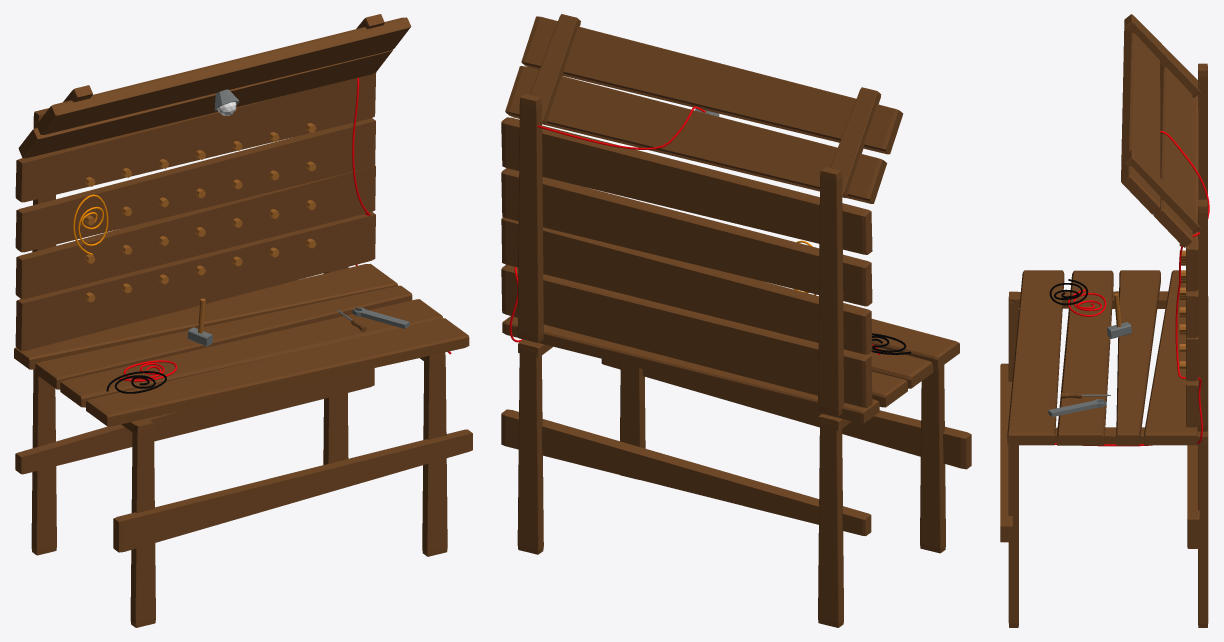
Rendered from Crafting.fbx.
3 views of the same model, side by side, from view 1: azimuth 30°, elevation 25°; view 2: azimuth 150°, elevation 25°; view 3: azimuth 270°, elevation 25° (orthographic). The views are drawn at different scales.
Parts seen in each view (by area): view 1: Cube.006, Cube.008, Cube.007, Cube.009, Cube.004, Cube.016, Cube.011, Cube.003, Cube.001, Cube.014, Cube.015, Cube.002 (+4 smaller); view 2: Cube.011, Cube.006, Cube.010, Cube.009, Cube.008, Cube.007, Cube.012, Cube.015, Cube.013, Cube.014, Cube.001, Cube.016 (+5 smaller); view 3: Cube.004, Cube.003, Cube.002, Cube.011, Cube.001, Cube.010, Cube.012, Cube.017, Cube.014, Cube.013, Cube.016, Cube.009 (+11 smaller).
Boxes of the visible parts, x1=… form: Cube.006: x1=15, y1=212, x2=375, y2=351; Cube.008: x1=15, y1=118, x2=375, y2=252; Cube.007: x1=15, y1=165, x2=375, y2=299; Cube.009: x1=15, y1=72, x2=376, y2=202; Cube.004: x1=86, y1=318, x2=469, y2=426; Cube.016: x1=113, y1=429, x2=472, y2=552; Cube.011: x1=36, y1=17, x2=411, y2=134; Cube.003: x1=60, y1=299, x2=442, y2=407; Cube.001: x1=14, y1=263, x2=397, y2=369; Cube.014: x1=130, y1=352, x2=447, y2=627; Cube.015: x1=15, y1=368, x2=374, y2=474; Cube.002: x1=35, y1=285, x2=412, y2=389; Cube.011: x1=521, y1=16, x2=903, y2=154; Cube.006: x1=501, y1=264, x2=872, y2=408; Cube.010: x1=505, y1=66, x2=887, y2=203; Cube.009: x1=501, y1=117, x2=872, y2=254; Cube.008: x1=501, y1=168, x2=872, y2=306; Cube.007: x1=501, y1=217, x2=872, y2=354; Cube.012: x1=517, y1=94, x2=844, y2=416; Cube.015: x1=501, y1=409, x2=871, y2=536; Cube.013: x1=517, y1=340, x2=843, y2=627; Cube.014: x1=620, y1=363, x2=945, y2=553; Cube.001: x1=502, y1=316, x2=879, y2=423; Cube.016: x1=601, y1=359, x2=971, y2=469; Cube.004: x1=1007, y1=270, x2=1064, y2=445; Cube.003: x1=1056, y1=270, x2=1113, y2=445; Cube.002: x1=1116, y1=270, x2=1160, y2=445; Cube.011: x1=1121, y1=27, x2=1160, y2=214; Cube.001: x1=1144, y1=270, x2=1197, y2=445; Cube.010: x1=1153, y1=64, x2=1192, y2=247; Cube.012: x1=1198, y1=63, x2=1207, y2=431; Cube.017: x1=1124, y1=14, x2=1200, y2=233; Cube.014: x1=1008, y1=291, x2=1018, y2=627; Cube.013: x1=1198, y1=296, x2=1208, y2=627; Cube.016: x1=1000, y1=363, x2=1012, y2=542; Cube.009: x1=1186, y1=95, x2=1198, y2=291.
Bounding box in the file's own units: 204 × 269 × 109.
